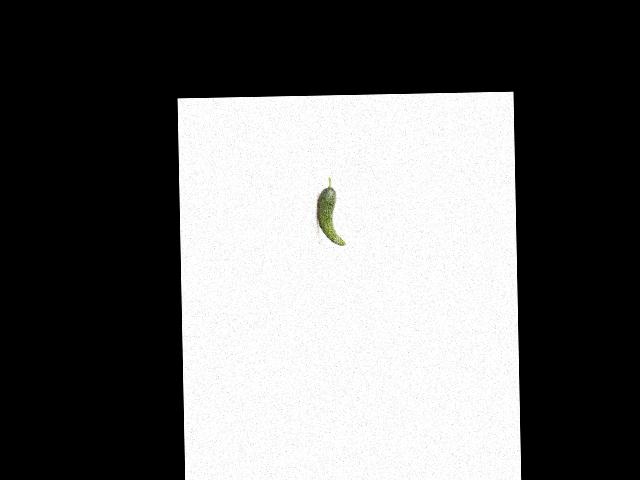cucumber: (316, 176, 345, 245)
